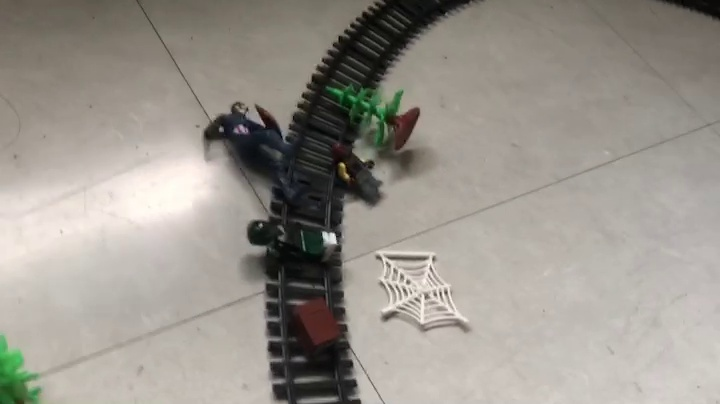box: (290, 299, 342, 369)
people: (202, 102, 313, 211), (248, 219, 340, 277), (330, 143, 387, 206)
tree: (325, 83, 422, 152)
web: (374, 248, 471, 328)
